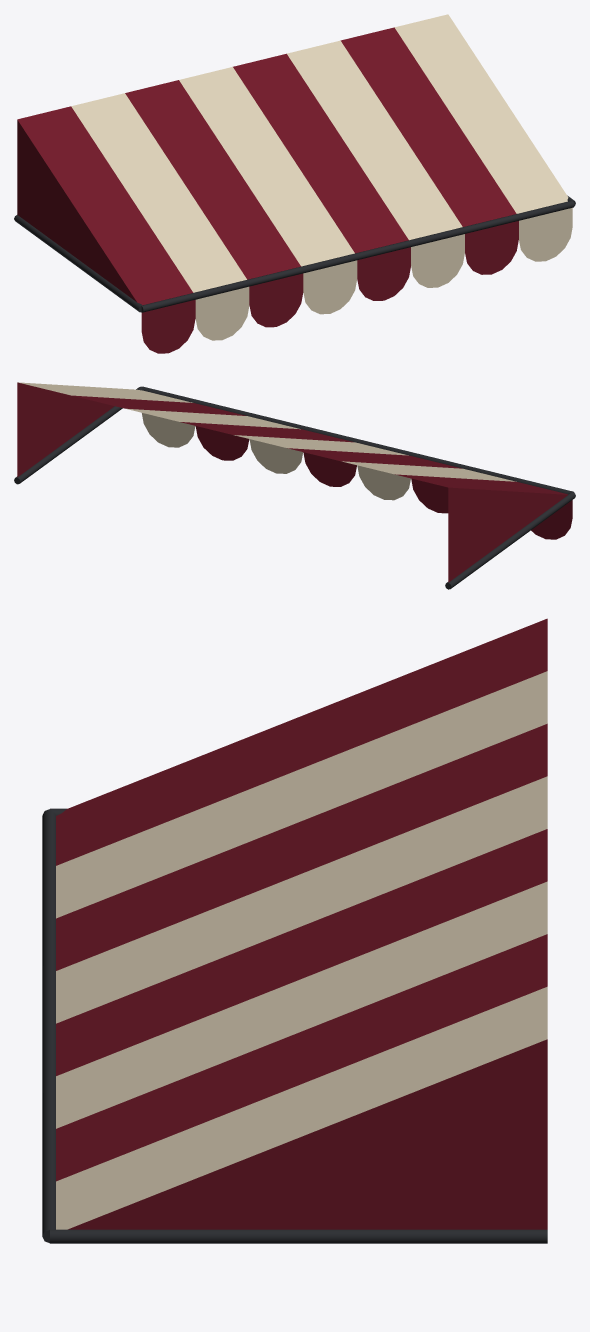
The model's file is ENT_Toldo.glb.
3 views of the same model, one above another, from view 1: azimuth 30°, elevation 25°; view 2: azimuth 150°, elevation 25°; view 3: azimuth 270°, elevation 25° (orthographic). The views are drawn at different scales.
Visible parts, largest first — view 1: ENT_Toldo; view 2: ENT_Toldo; view 3: ENT_Toldo.
Part boxes in pixels (left/top/right/bottom): ENT_Toldo: left=14, top=14, right=575, bottom=353; ENT_Toldo: left=14, top=382, right=575, bottom=589; ENT_Toldo: left=42, top=618, right=547, bottom=1243.
Bounding box in the file's own units: 1.62 × 0.53 × 0.812.
